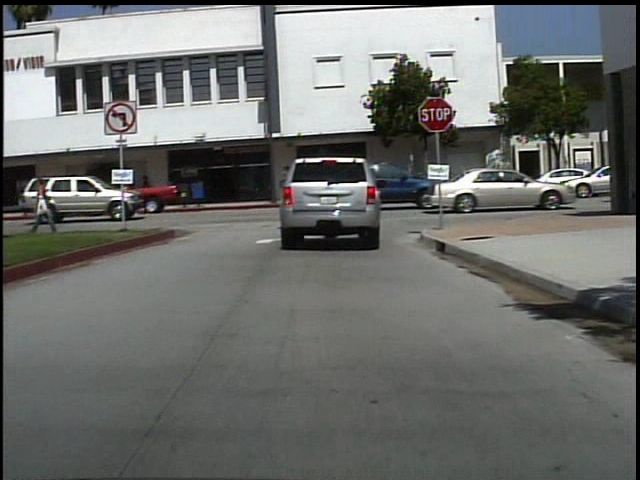person: (27, 172, 64, 238), (273, 160, 302, 237), (139, 172, 162, 211), (162, 172, 181, 208)
